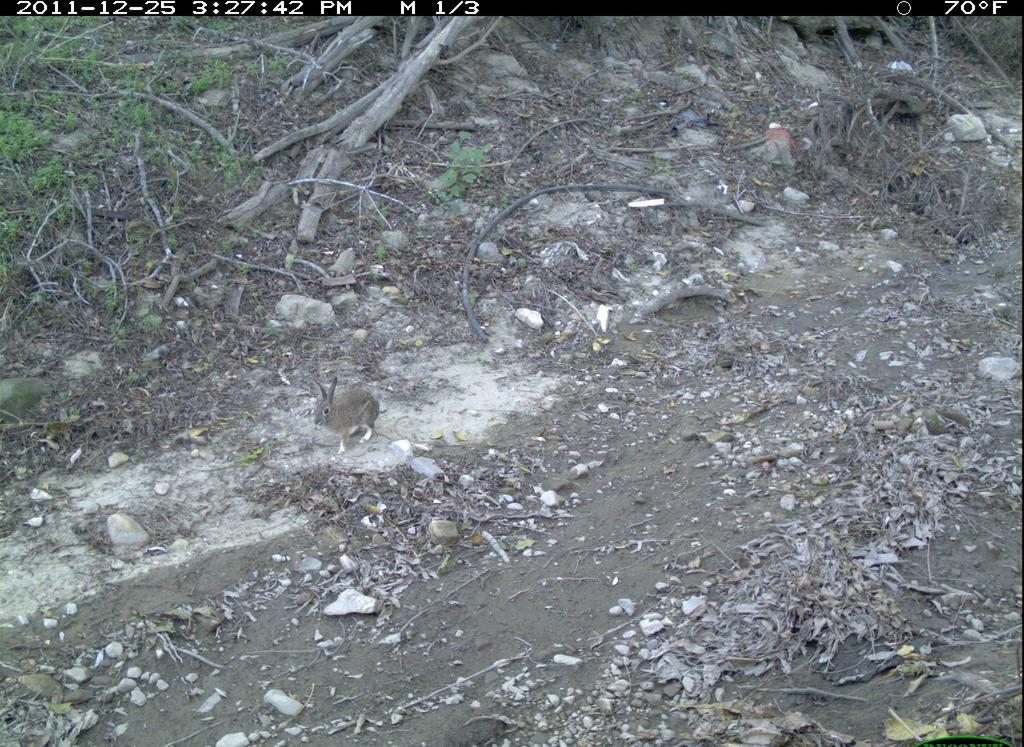rabbit: (303, 367, 388, 452)
